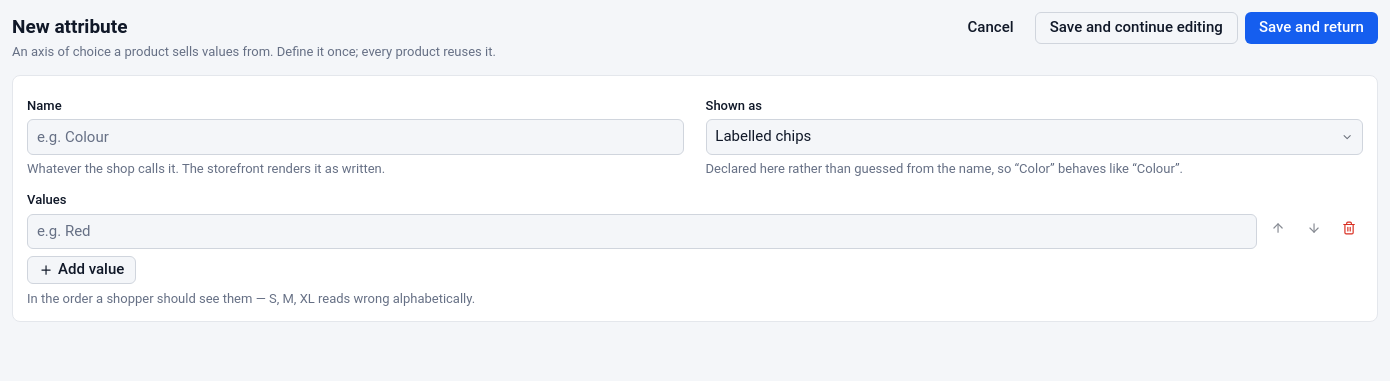
Test: AttributeFormPage — a swatch is offered only for a swatch attribute › shows the colour controls on existing rows the moment the presentation changes
Step 1. Type "Red" into the field named "Value 1" → (642, 232), box [27,214,1257,249]
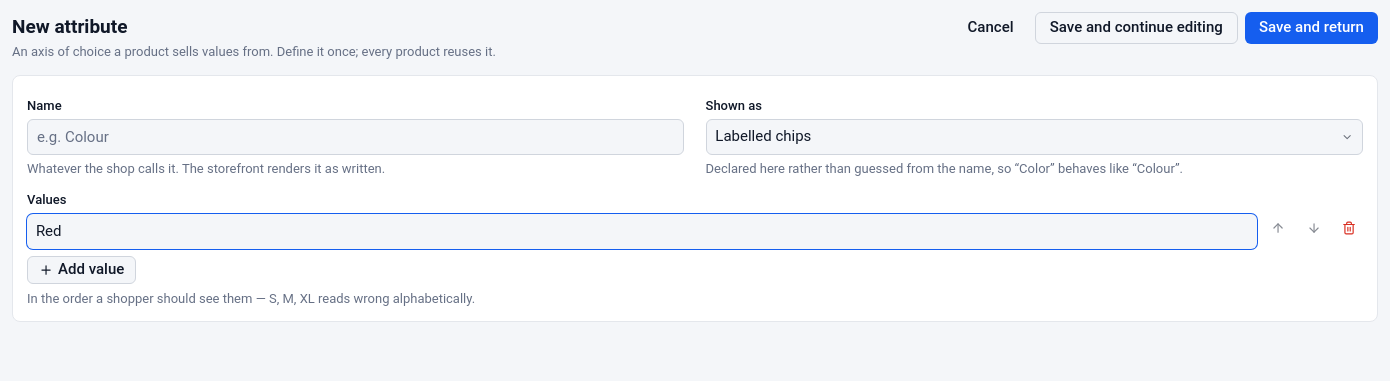
Step 2. Click the button "Add value" → (82, 270), box [27,256,136,284]
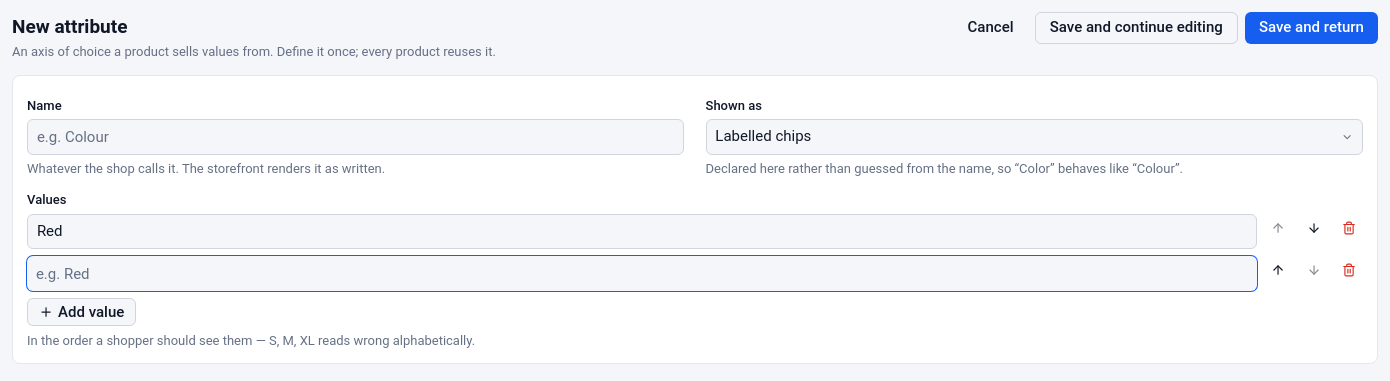
Step 3. Type "Blue" into the field with placeholder "e.g. Red" → (642, 274), box [27,256,1257,291]
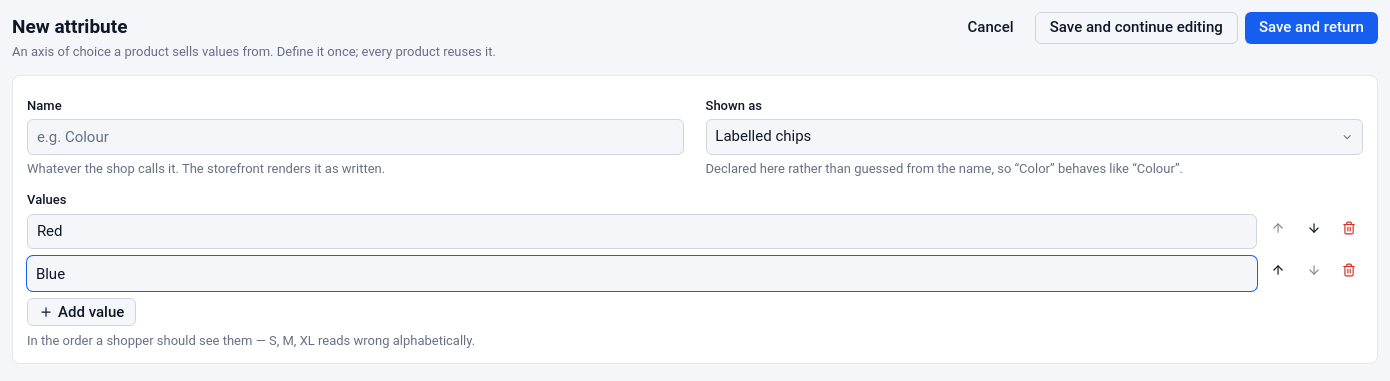
Step 4. Click the dropdown named "Shown as" → (763, 136), box [706,119,1363,155]
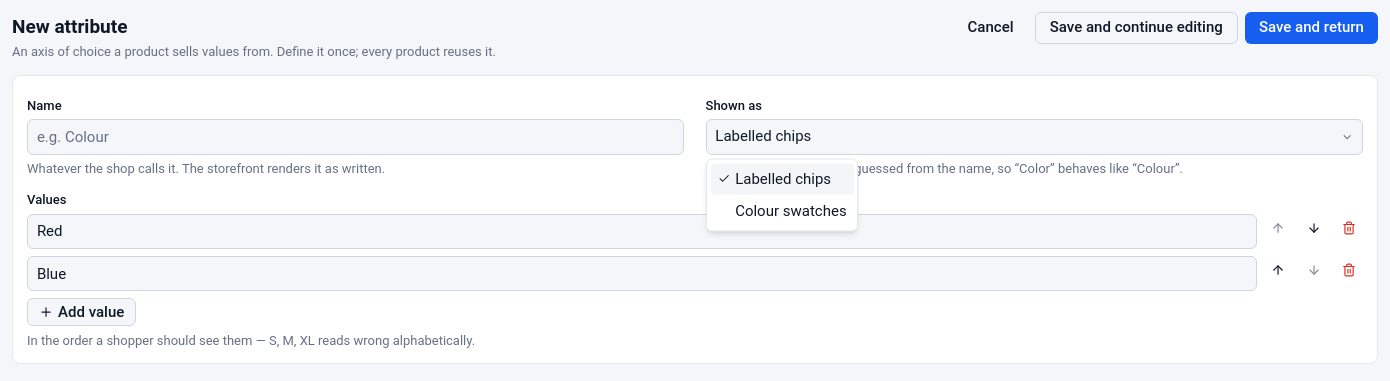
Step 5. Click the option "Colour swatches" → (791, 210), box [735,201,847,219]
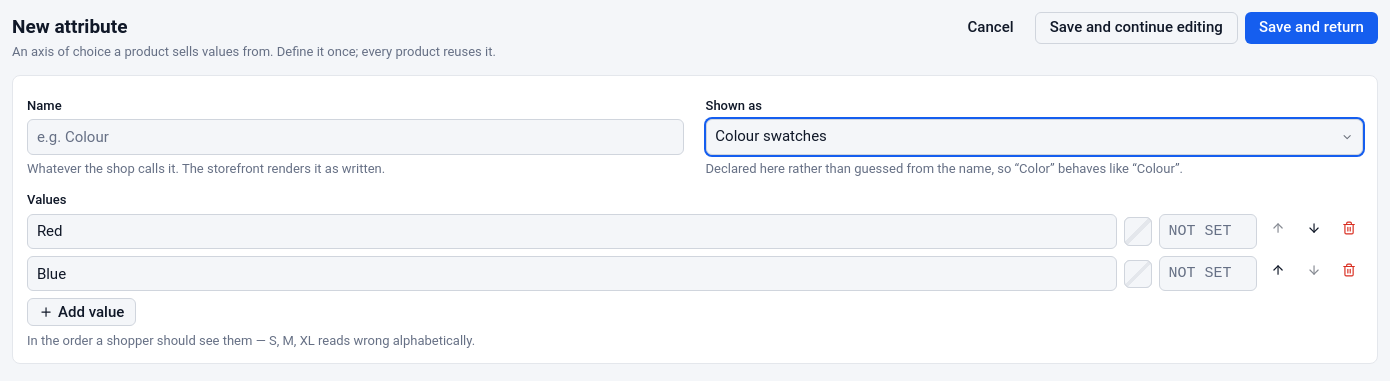
Check: the field named "Colour for value 1" is shown, box [1159,214,1257,249]
Check: the field named "Colour for value 2" is shown, box [1159,256,1257,291]
